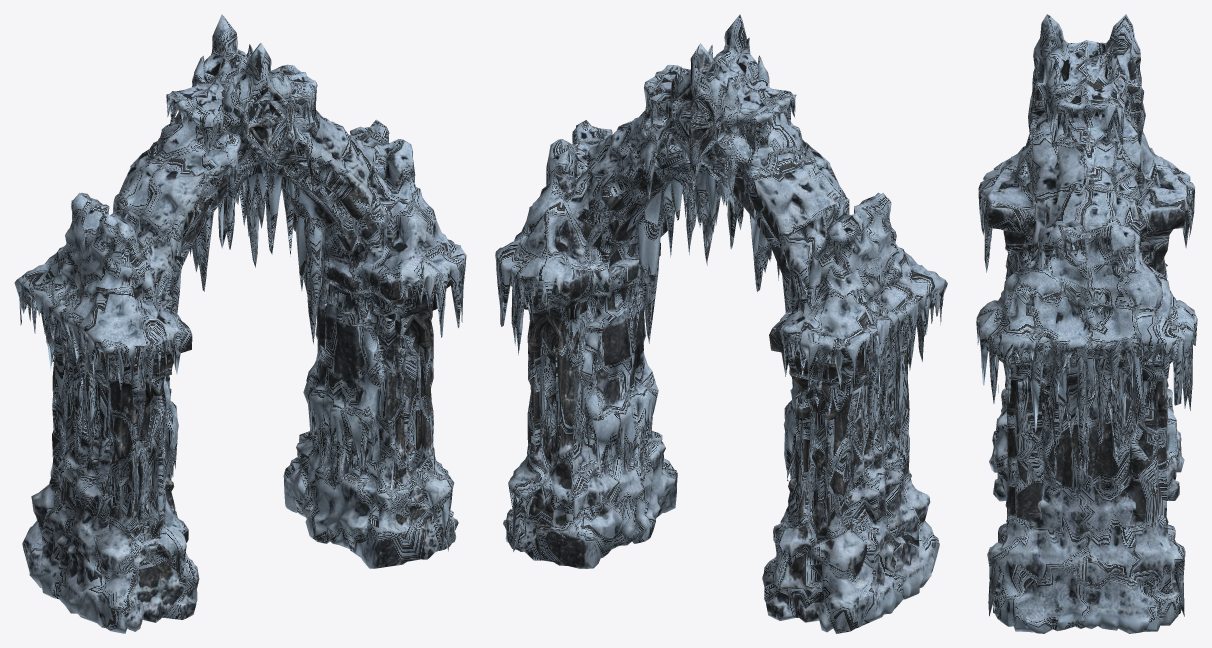
File: arch-gate.glb
3 views of the same model, side by side, from view 1: azimuth 30°, elevation 25°; view 2: azimuth 150°, elevation 25°; view 3: azimuth 270°, elevation 25° (orthographic).
Size of the model in its own units: 1.4 by 1.9 by 0.7161.
1 material, 1 textured.
